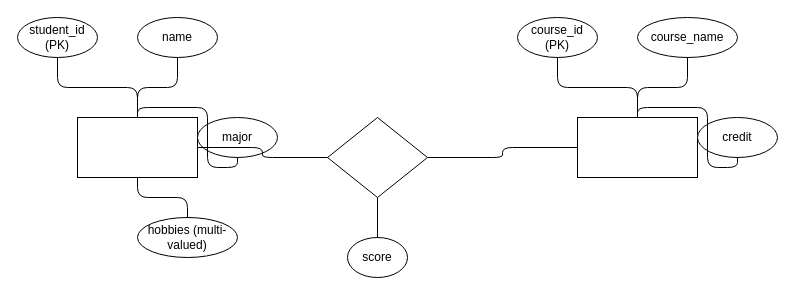
The diagram is 795 pixels wide and 295 high, and some of its shapes have lost their labels. Here are the shapes that lost their labels. From the top down, the box of each, then its label:
(76, 116, 198, 178): Student
(326, 116, 428, 198): Enrollment
(576, 116, 698, 178): Course
